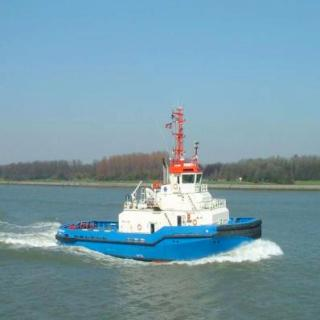Tug Boat: (62, 97, 256, 258)
